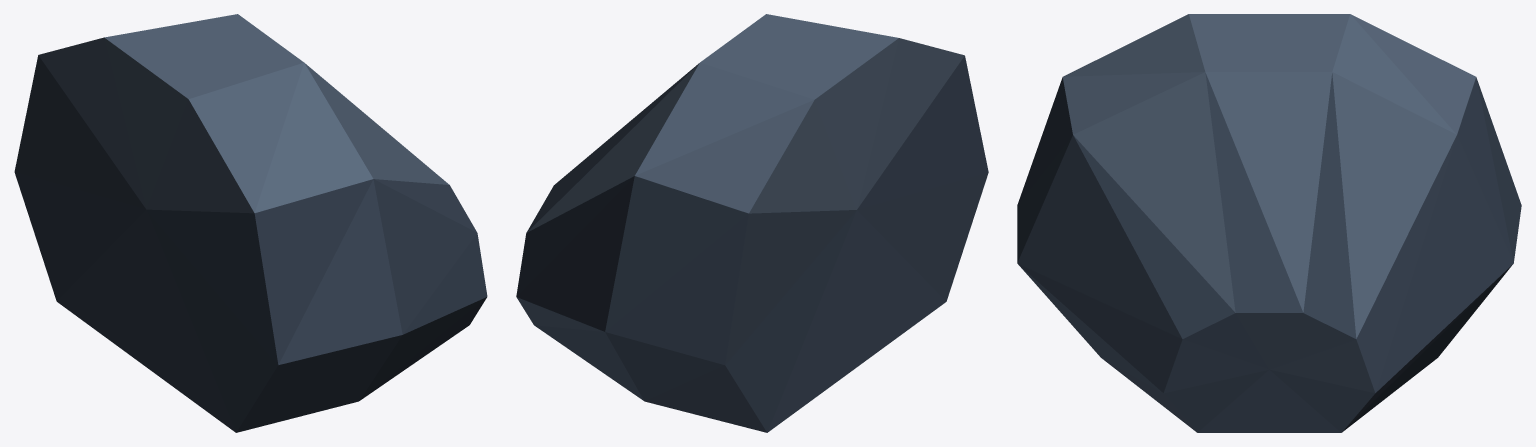
File: ledge_z2_rock_cap_r.glb
3 views of the same model, side by side, from view 1: azimuth 30°, elevation 25°; view 2: azimuth 150°, elevation 25°; view 3: azimuth 270°, elevation 25° (orthographic). The views are drawn at different scales.
Visible parts, largest first — view 1: ledge_z2_rock_cap_r; view 2: ledge_z2_rock_cap_r; view 3: ledge_z2_rock_cap_r.
Part boxes in pixels (x1,y1,x2,y2): ledge_z2_rock_cap_r: (14, 14, 487, 432); ledge_z2_rock_cap_r: (516, 14, 988, 432); ledge_z2_rock_cap_r: (1017, 14, 1521, 432).
Bounding box in the file's own units: 1 × 1 × 1.6.
